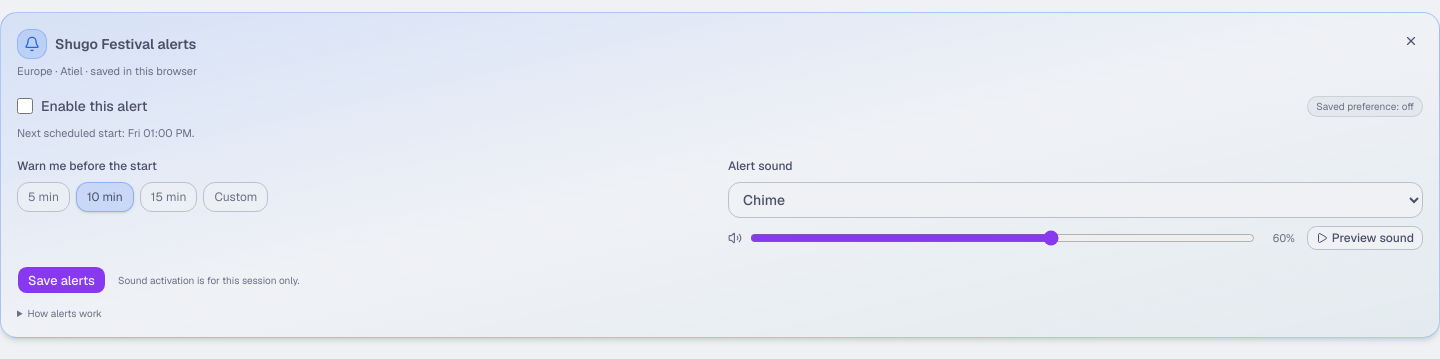
Test: saves per-event enabled, early-time, sound and volume preferences after canonical acknowledgement
Click the checkbox labelled "Enable this alert" at (25, 106), box [17, 98, 33, 114]
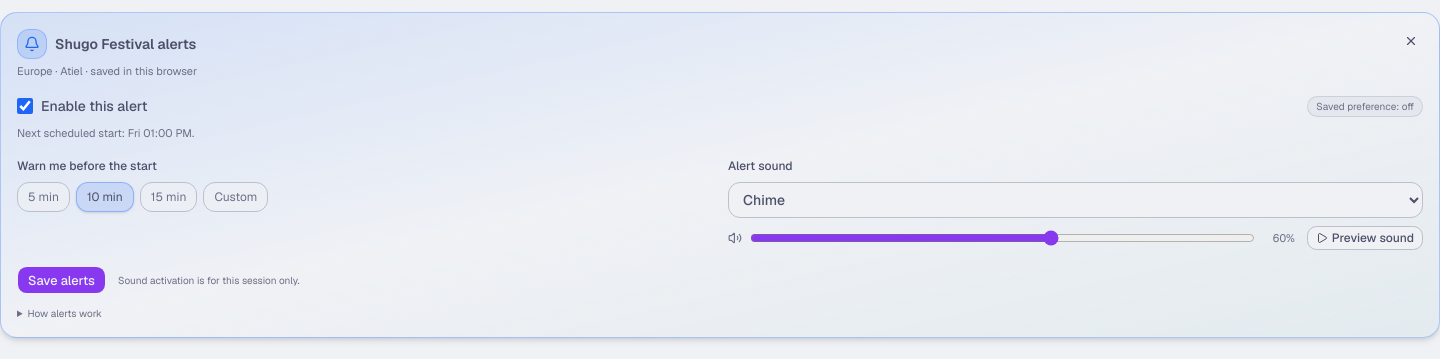
Click the button "5 min" at (44, 197), box [17, 182, 70, 212]
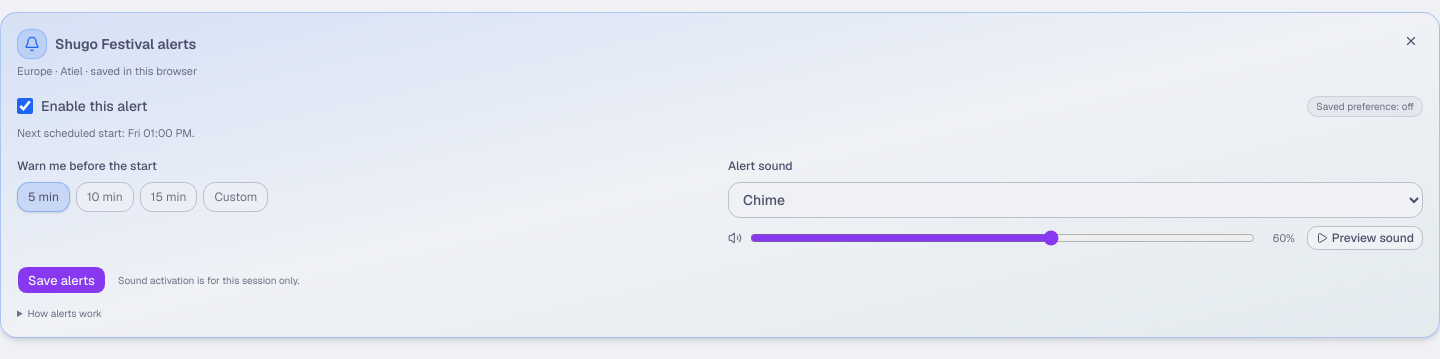
Select "Bell" in the dropdown labelled "Alert sound" at (1076, 200), box [728, 182, 1423, 218]
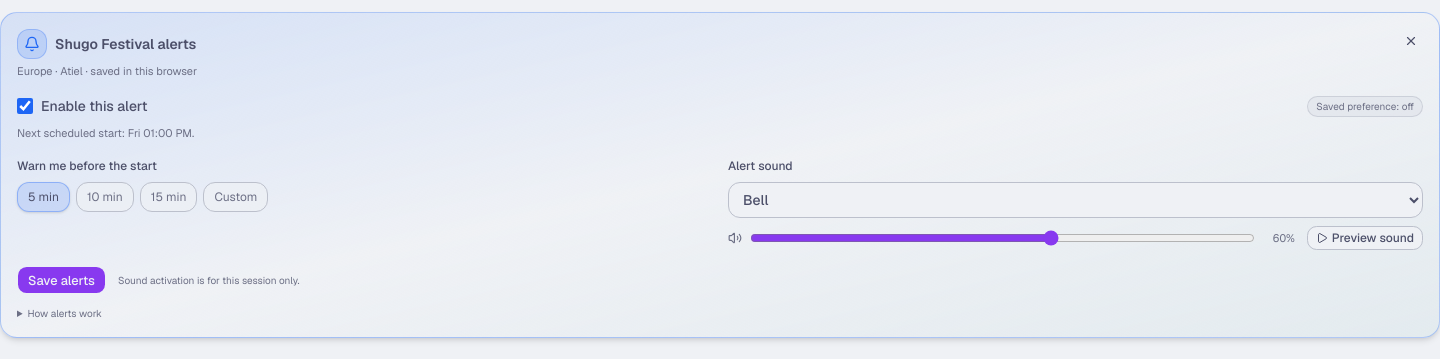
Set the slider named "Alert volume" to "80" at (1149, 238), box [750, 230, 1255, 246]
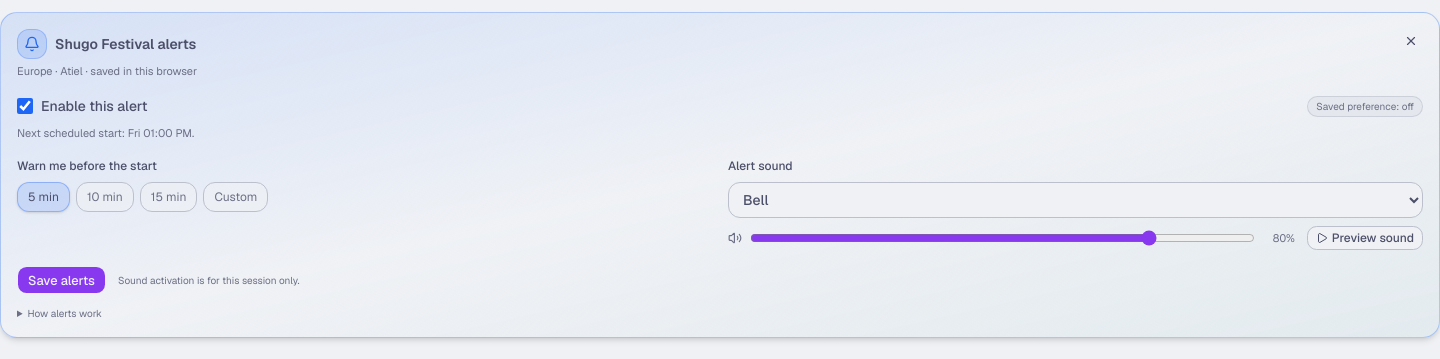
Check: the text "Preferences saved in this browser" is not shown
Click the button "Save alerts" at (61, 280), box [17, 266, 106, 294]
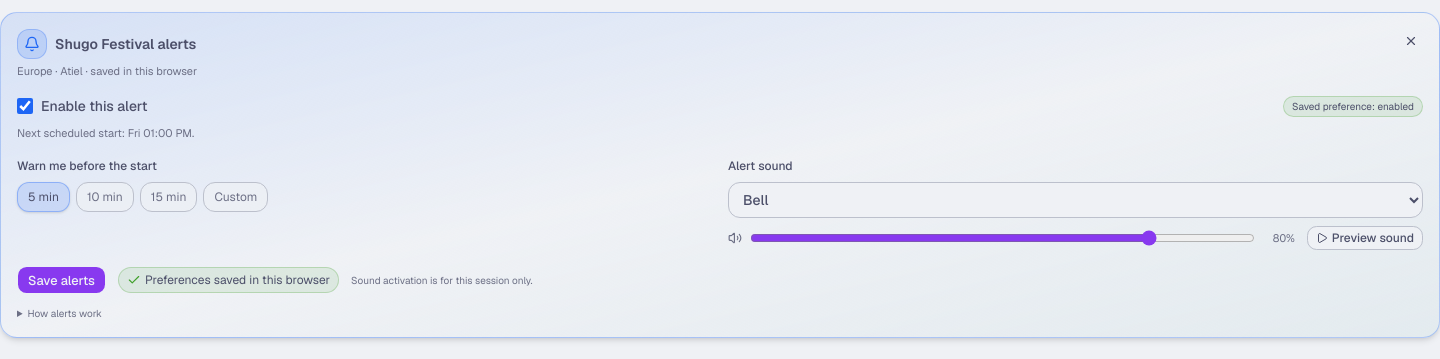
Check: the text "Preferences saved in this browser" is shown, box [118, 267, 339, 293]
Check: the text "Saved preference: enabled" is shown, box [1283, 96, 1423, 116]
